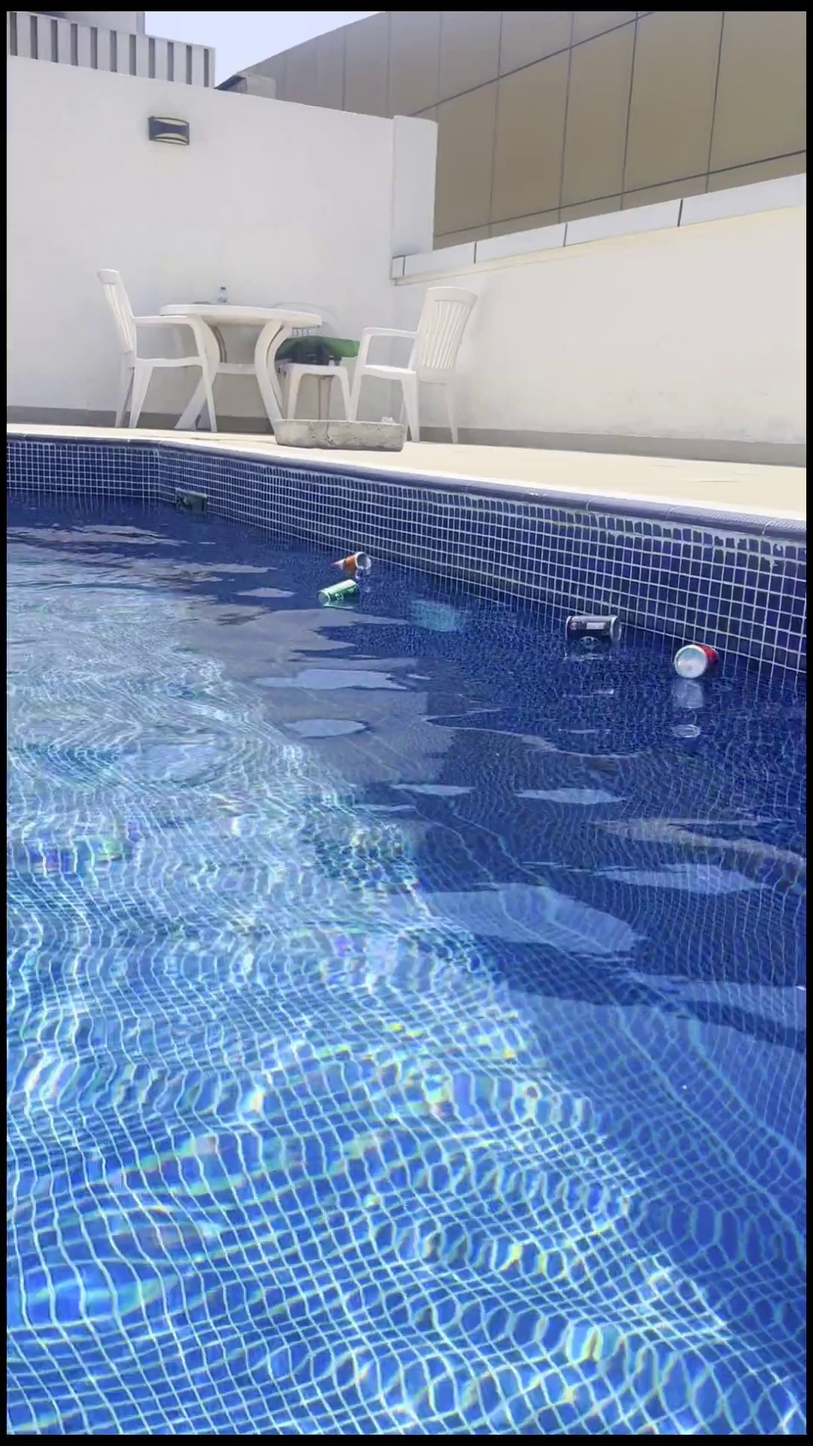debris: (560, 596, 623, 654), (671, 629, 717, 689), (315, 569, 361, 617), (329, 536, 372, 586)
